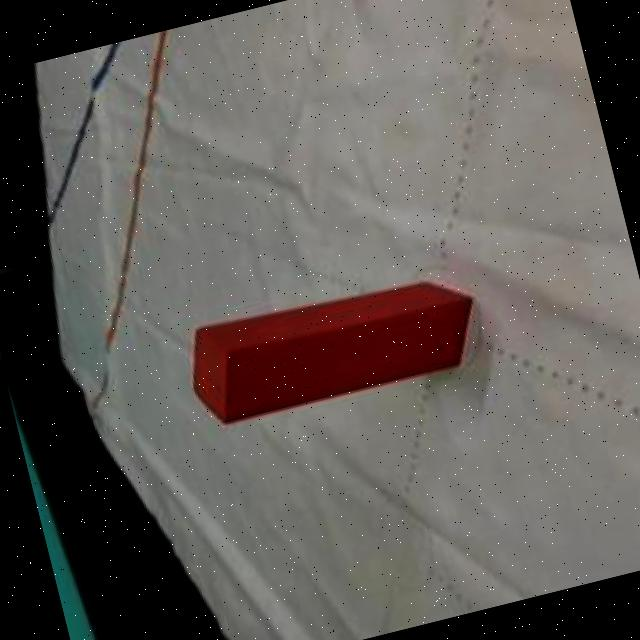redbox: (174, 260, 488, 431)
